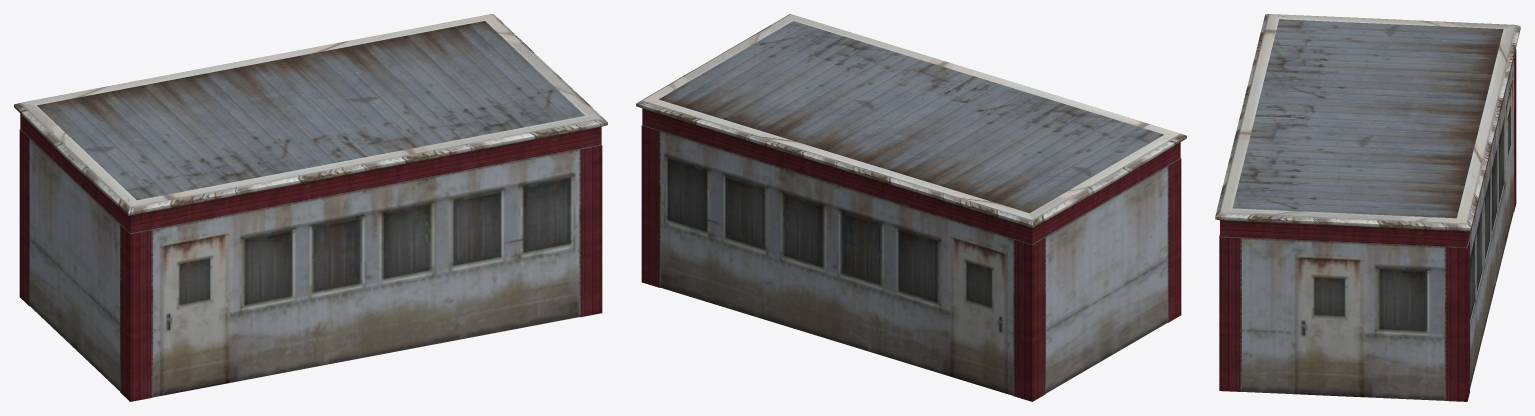
Rendered from Trailer.fbx.
3 renders of one model, left to right at view 1: azimuth 30°, elevation 25°; view 2: azimuth 150°, elevation 25°; view 3: azimuth 270°, elevation 25°, orthographic. The views are drawn at different scales.
Parts seen in each view (by area): view 1: Trailer; view 2: Trailer; view 3: Trailer.
Boxes of the visible parts, x1,y1,x2,y2 form: Trailer: (14, 14, 607, 401); Trailer: (636, 14, 1186, 401); Trailer: (1215, 14, 1520, 401).
Size of the model in its own units: 765 by 297 by 462.
